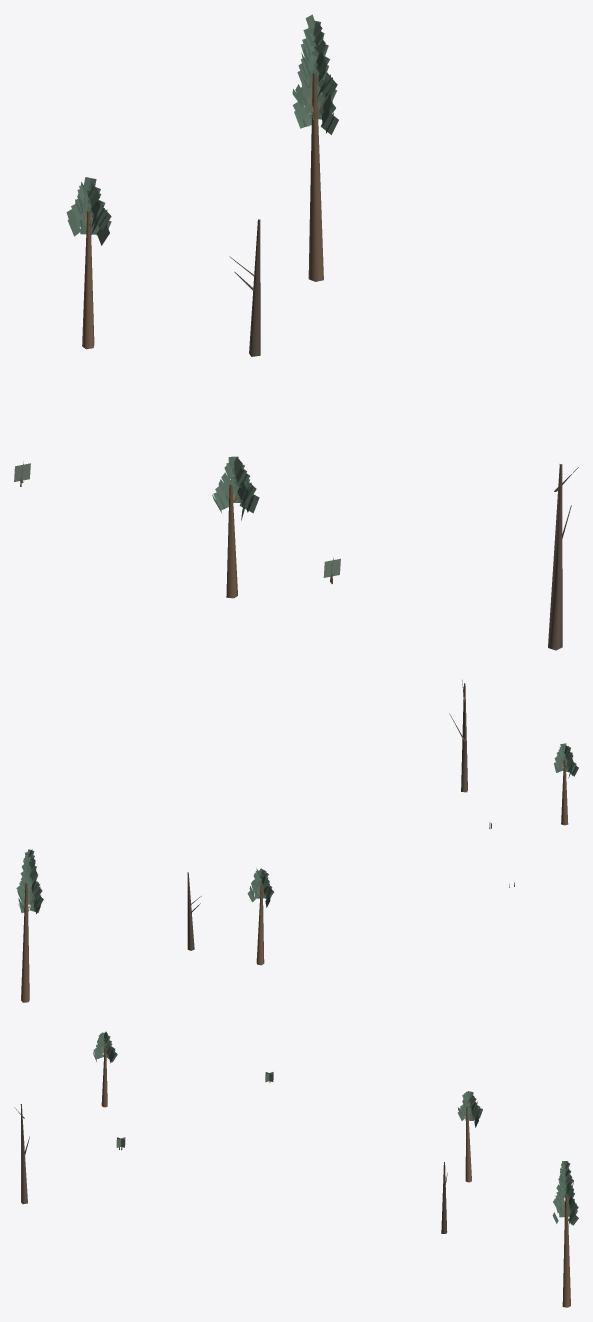
File: frost_land_scatter_c22_10_lod1.glb
The picture shows the model from 3 angles, top to bottom: view 1: azimuth 30°, elevation 25°; view 2: azimuth 150°, elevation 25°; view 3: azimuth 270°, elevation 25°; orthographic projection. The views are drawn at different scales.
Parts seen in each view (by area): view 1: frost_land_scatter_c22_10_lod1; view 2: frost_land_scatter_c22_10_lod1; view 3: frost_land_scatter_c22_10_lod1.
Boxes of the visible parts, left/top/right/bottom form: frost_land_scatter_c22_10_lod1: left=14, top=14, right=578, bottom=650; frost_land_scatter_c22_10_lod1: left=16, top=679, right=578, bottom=1002; frost_land_scatter_c22_10_lod1: left=14, top=1031, right=578, bottom=1307.
Size of the model in its own units: 29.29 by 12.45 by 44.6.
